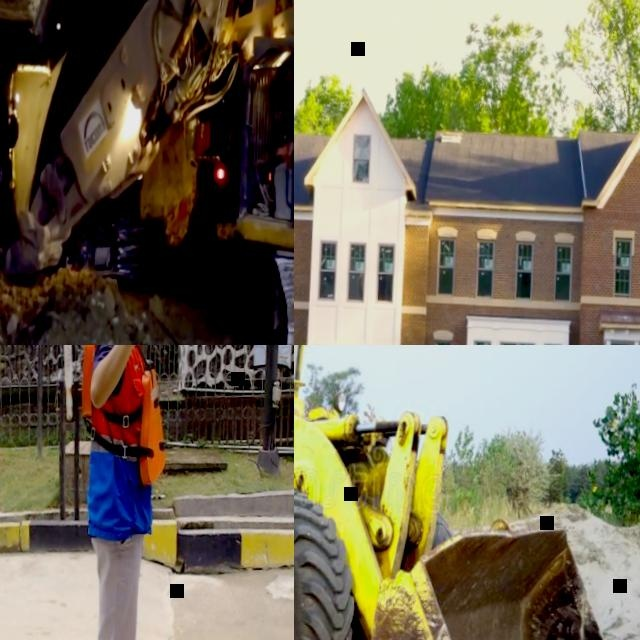Person: (55, 345, 174, 640), (268, 75, 294, 204)
Safety Vest: (71, 345, 174, 489)
machinery: (294, 345, 640, 640), (0, 0, 294, 345)
